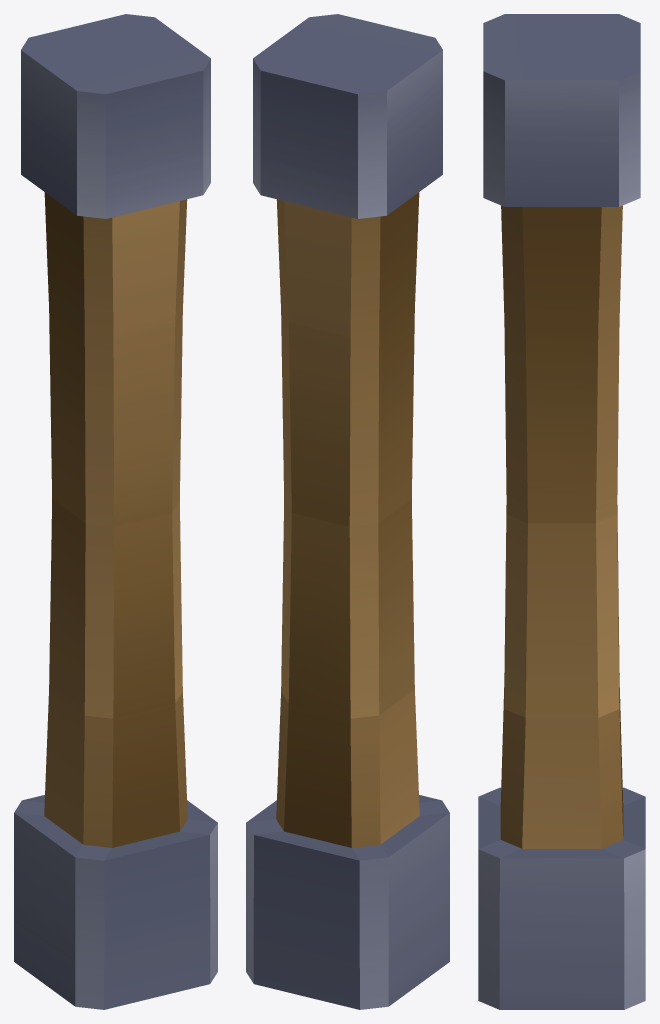
File: factory-pillar.obj
3 renders of one model, left to right at view 1: azimuth 30°, elevation 25°; view 2: azimuth 150°, elevation 25°; view 3: azimuth 270°, elevation 25°, orthographic.
Parts seen in each view (by area): view 1: factory-pillar; view 2: factory-pillar; view 3: factory-pillar.
Part boxes in pixels (<box>): factory-pillar: <box>14,14,217,1009</box>; factory-pillar: <box>246,14,449,1009</box>; factory-pillar: <box>478,14,645,1009</box>.
Bounding box in the file's own units: 3.07 × 18.77 × 3.07.
1 material, 1 textured.
